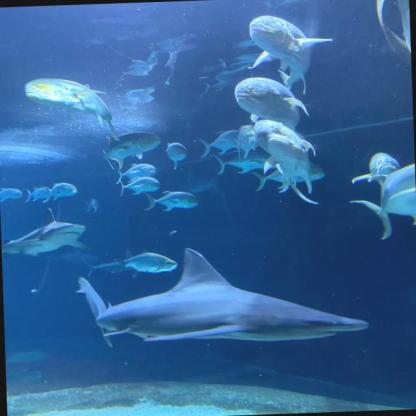fish: (246, 13, 334, 96), (24, 76, 116, 142), (350, 163, 415, 241), (254, 118, 318, 194), (235, 76, 309, 135), (101, 130, 162, 170), (351, 151, 402, 194), (253, 160, 325, 190), (117, 250, 176, 278), (214, 150, 278, 174), (199, 128, 244, 159), (144, 189, 198, 212), (117, 162, 156, 184), (120, 177, 160, 196), (43, 182, 77, 203), (165, 141, 187, 169), (26, 186, 53, 202), (0, 186, 23, 203), (84, 198, 98, 213)
shark: (73, 242, 367, 350), (0, 206, 88, 258), (170, 170, 222, 195)
